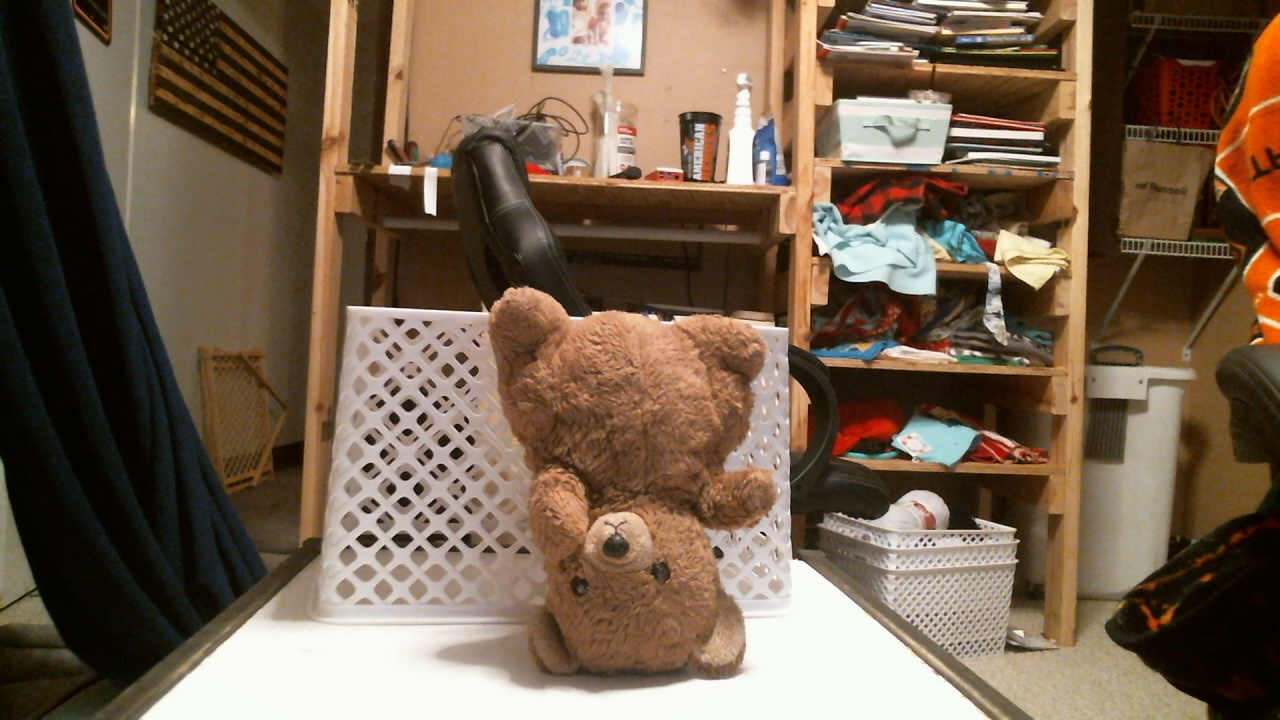Little_Mister_Bear: (563, 520, 685, 623)
